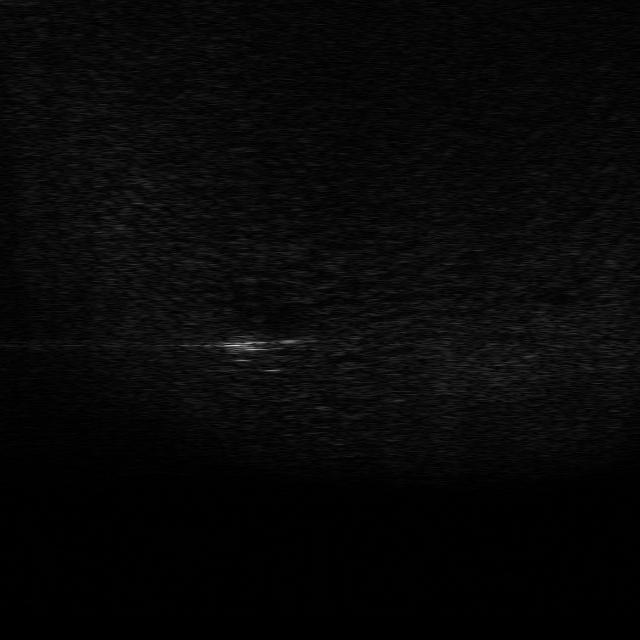plane: (218, 325, 314, 359)
